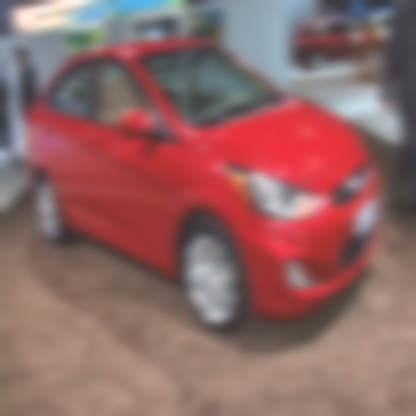Vehicle: (21, 36, 380, 341)
